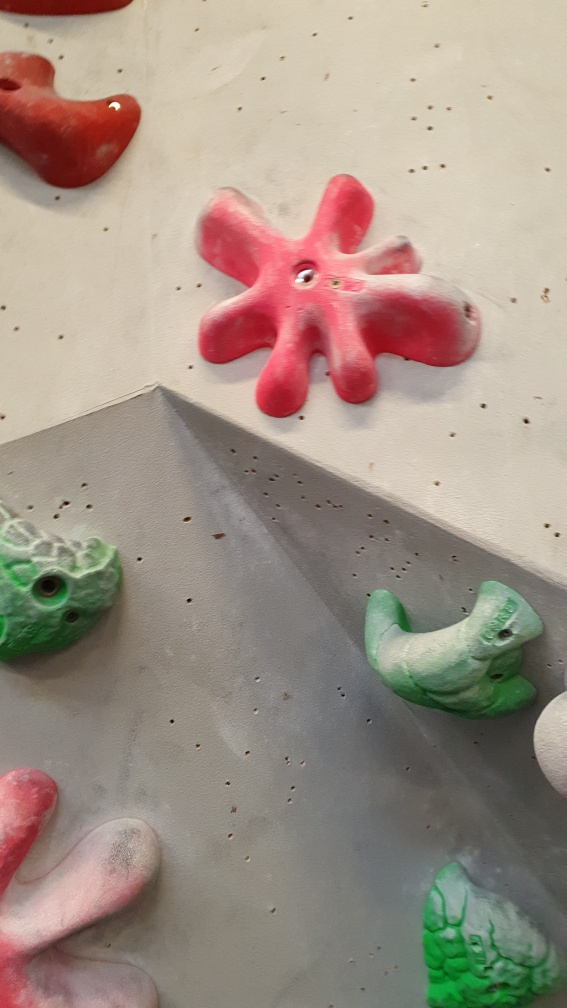Jug: (362, 569, 546, 723), (1, 497, 131, 675), (417, 853, 567, 1005)
Octopus Pinch: (193, 161, 489, 423), (2, 754, 172, 1007)
Sloper: (522, 675, 567, 804)
